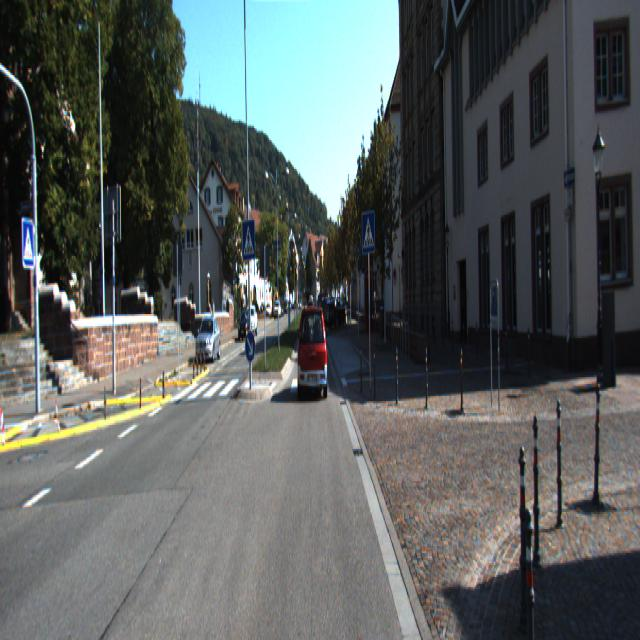Car: (298, 306, 328, 400), (194, 318, 222, 364), (327, 298, 349, 328), (238, 313, 252, 344)
